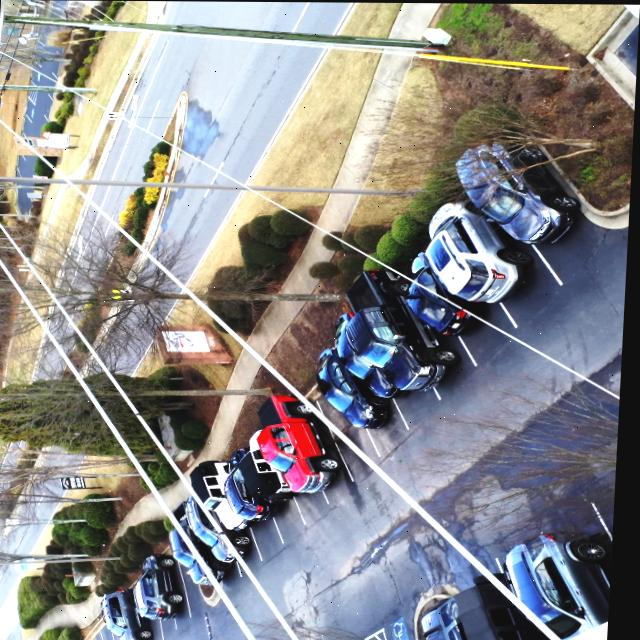poles: (0, 13, 570, 69)
wires: (0, 254, 264, 640), (322, 411, 574, 640), (0, 220, 199, 496), (51, 165, 228, 325), (237, 546, 306, 640), (245, 340, 312, 402), (600, 622, 614, 640)
